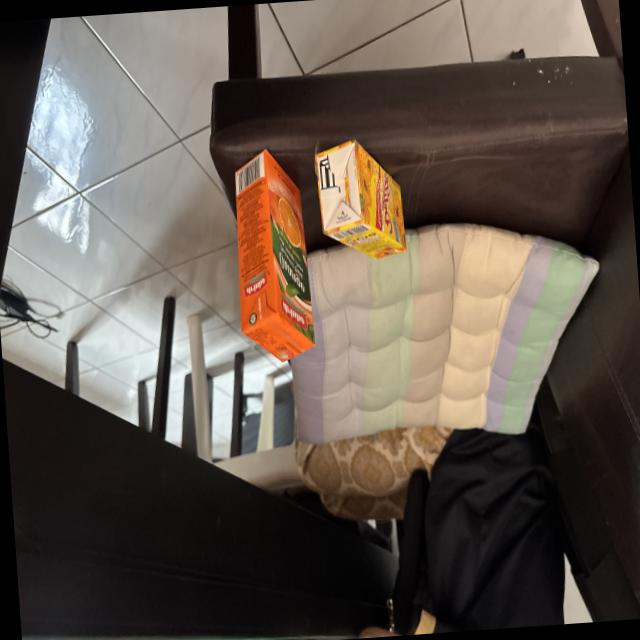drink_carton: (222, 140, 320, 377), (306, 129, 418, 274)
